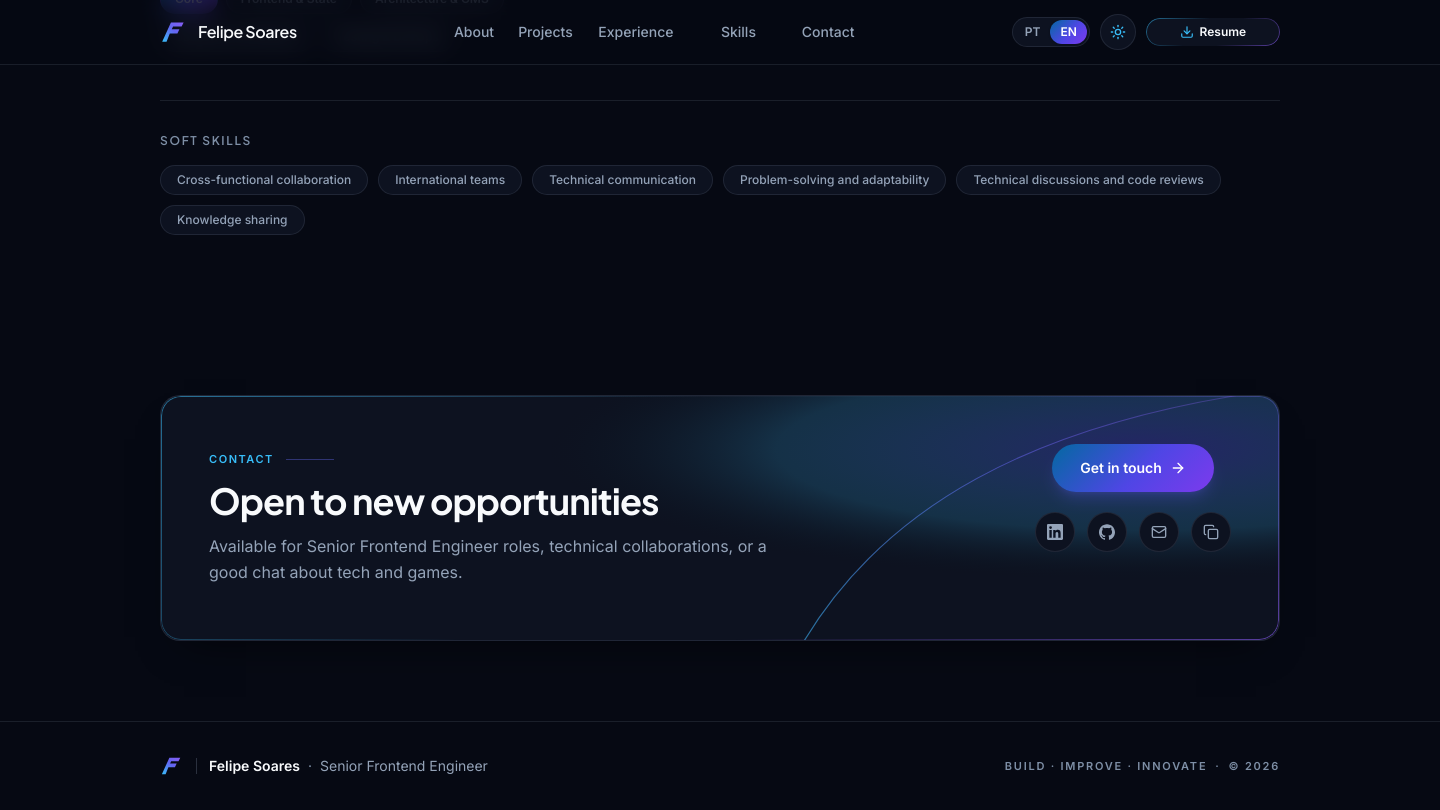
App integration & WCAG accessibility › copies email with live confirmation and degrades gracefully if clipboard rejects
This screenshot has width=1440, height=810.
(page scrolled)
What coordinates should you click on to do the following:
click the button named "copy email address"
I would click on:
 (1211, 532)
Its box is x1=1191 y1=512 x2=1231 y2=552.
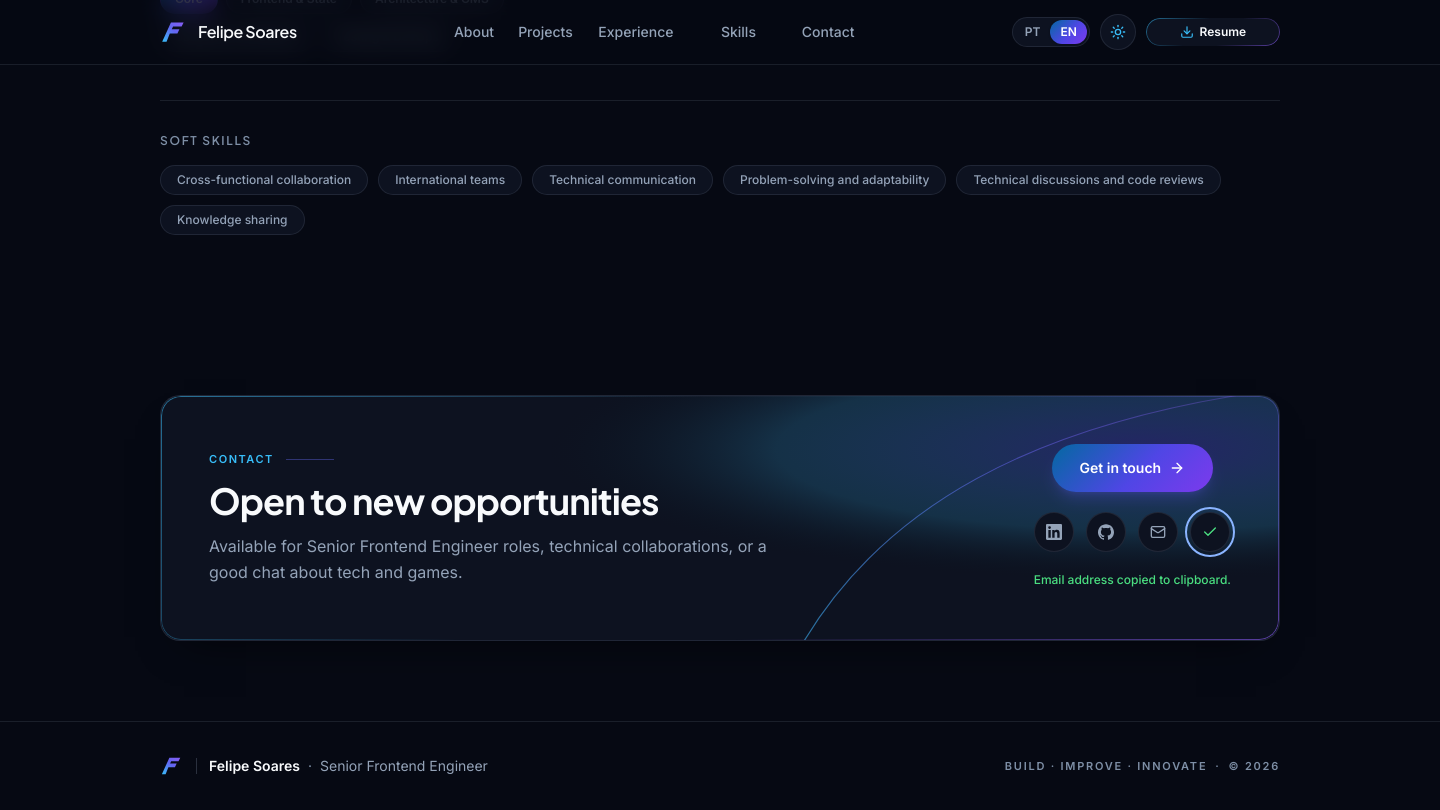
Expected: the message shows "copied", x1=1034 y1=572 x2=1231 y2=587
What coordinates should you click on to do the following:
click the button named "copy email address"
I would click on:
 (1210, 532)
Its box is x1=1190 y1=512 x2=1230 y2=552.
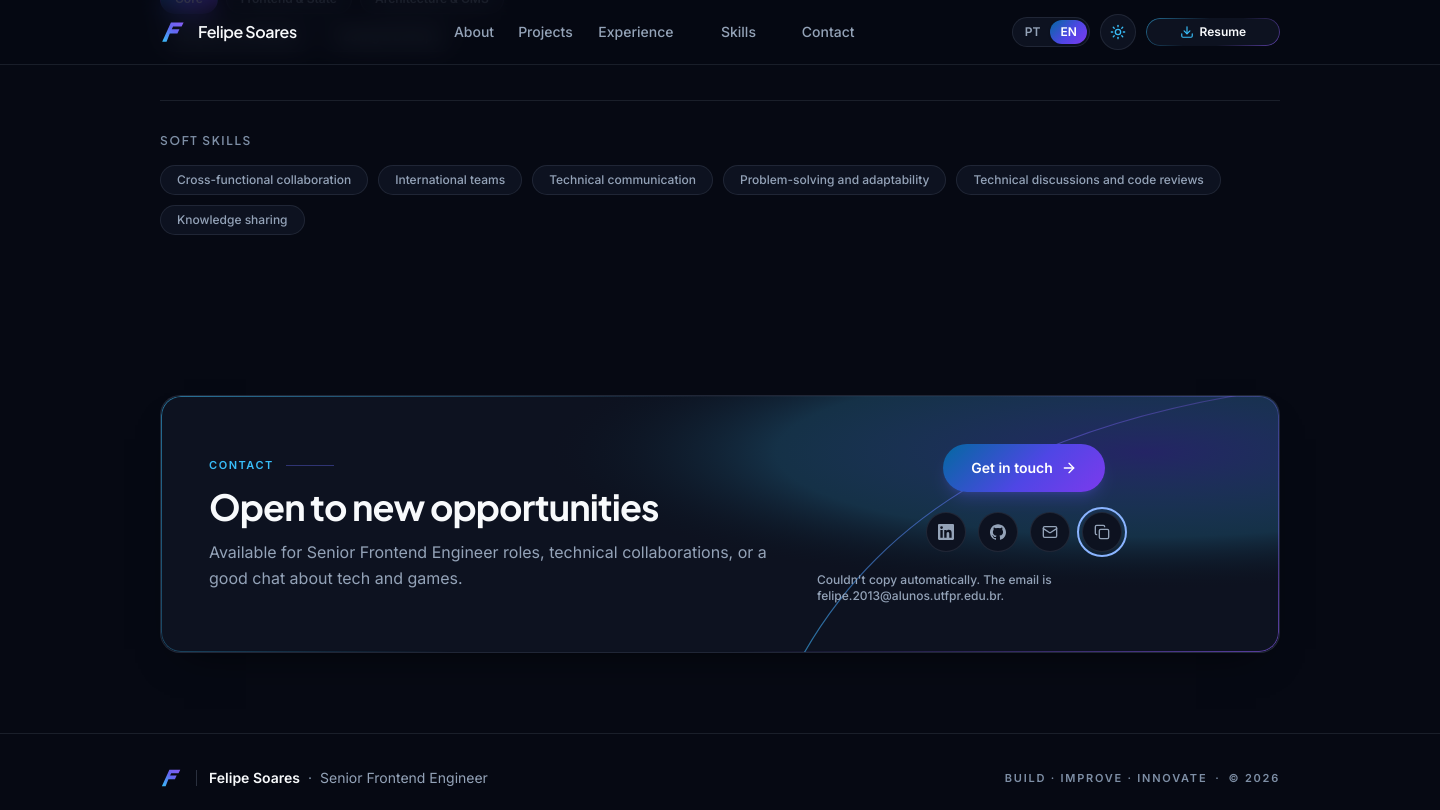
Expected: the message shows "felipe.2013@alunos.utfpr.edu.br", x1=817 y1=572 x2=1052 y2=603
